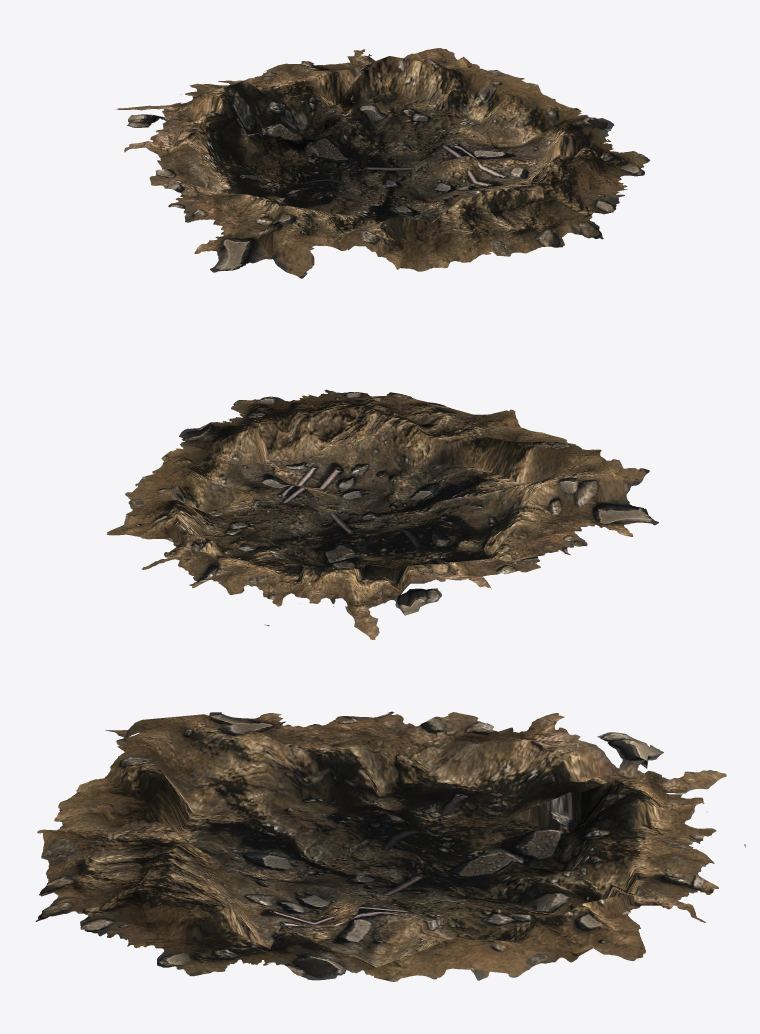
Rendered from decal 2.FBX.
3 renders of one model, top to bottom at view 1: azimuth 30°, elevation 25°; view 2: azimuth 150°, elevation 25°; view 3: azimuth 270°, elevation 25°, orthographic. The views are drawn at different scales.
Visible parts, largest first — view 1: decal_rubblerocks; view 2: decal_rubblerocks; view 3: decal_rubblerocks.
Part boxes in pixels (<box>): decal_rubblerocks: <box>116,48,649,278</box>; decal_rubblerocks: <box>106,389,658,639</box>; decal_rubblerocks: <box>35,711,745,981</box>.
Bounding box in the file's own units: 250 × 20.7 × 250.
Materials: 1 (1 with a texture image).
